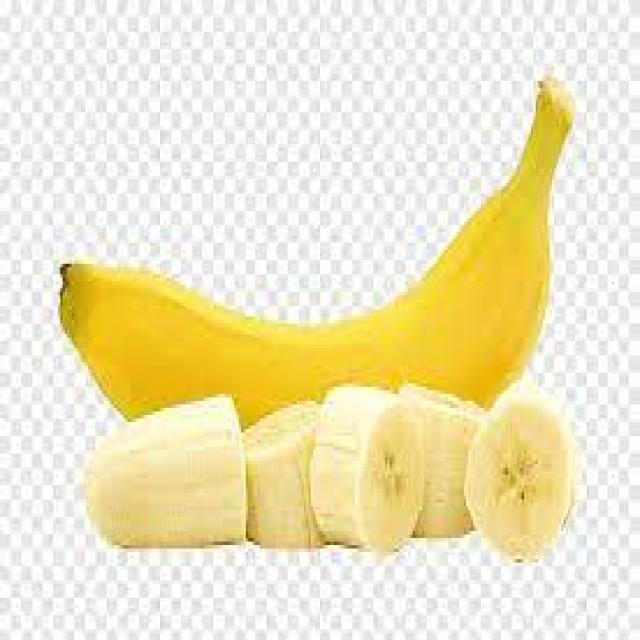banana: (56, 70, 575, 429)
